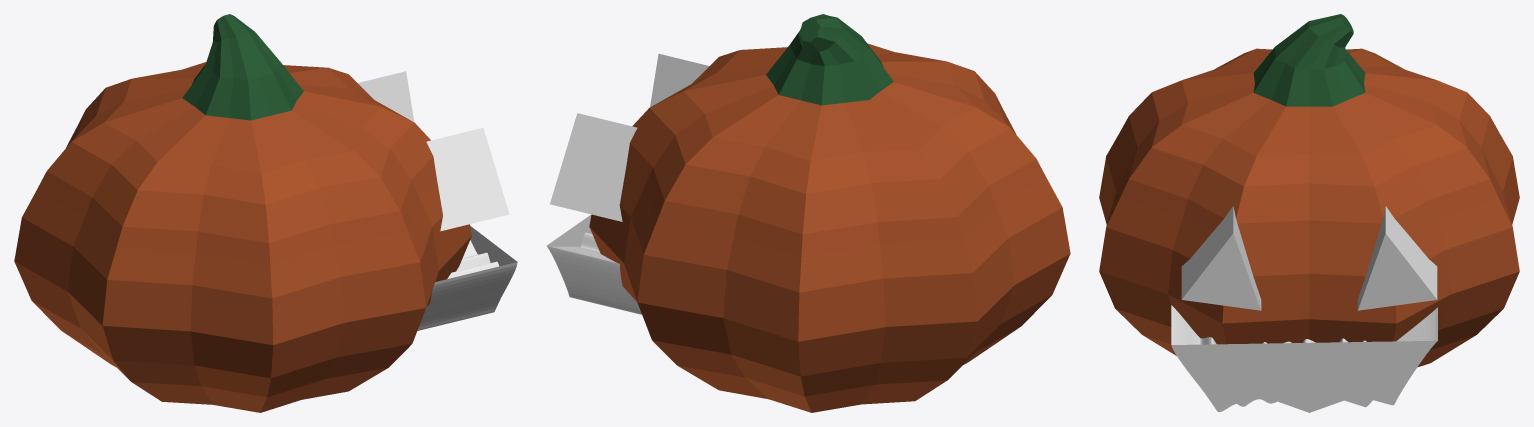
Rendered from Pumpkin.fbx.
3 views of the same model, side by side, from view 1: azimuth 30°, elevation 25°; view 2: azimuth 150°, elevation 25°; view 3: azimuth 270°, elevation 25° (orthographic). The views are drawn at different scales.
Visible parts, largest first — view 1: Circle, Cube, BézierCurve; view 2: Circle, Cube, BézierCurve; view 3: Circle, BézierCurve, Cube, Cube.001.
Boxes of the visible parts, bbox=[...] form: Circle: bbox=[14, 14, 471, 412]; Cube: bbox=[358, 71, 509, 231]; BézierCurve: bbox=[417, 226, 517, 330]; Circle: bbox=[589, 14, 1070, 412]; Cube: bbox=[550, 53, 709, 221]; BézierCurve: bbox=[546, 214, 641, 314]; Circle: bbox=[1099, 14, 1519, 367]; BézierCurve: bbox=[1171, 305, 1437, 412]; Cube: bbox=[1181, 206, 1437, 310]; Cube.001: bbox=[1278, 396, 1343, 412].
Size of the model in its own units: 175 by 142 by 166.
